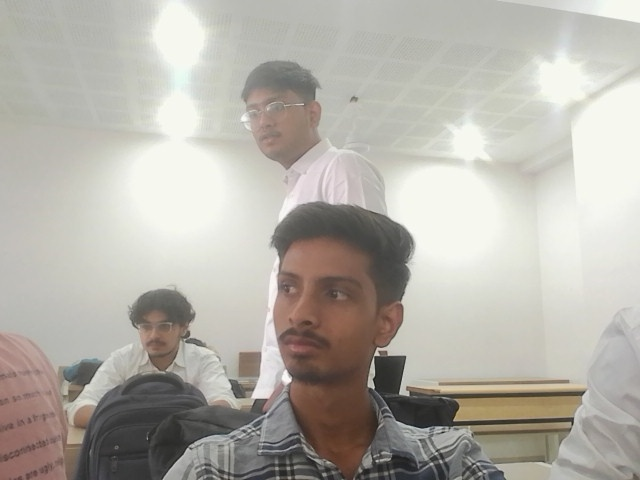fan_on: (330, 89, 374, 167)
light_on: (142, 13, 213, 181), (387, 119, 513, 173), (536, 67, 601, 110)
person: (158, 199, 508, 479), (196, 68, 405, 301), (54, 286, 239, 432), (548, 296, 639, 479)
